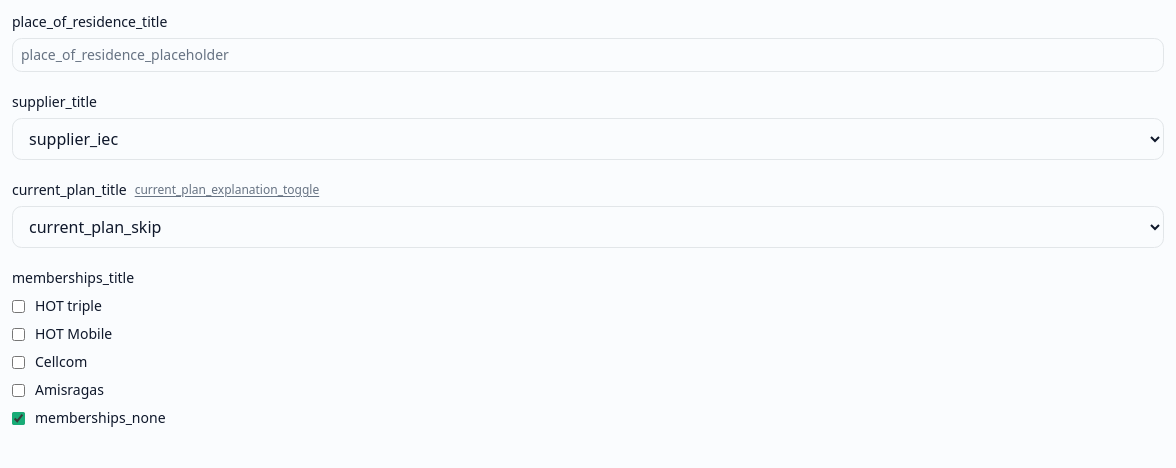
Test case: HomeFields current-plan picker › reveals the explanation text when the explanation toggle is activated
What coordinates should you click on to do the following:
click the button "current_plan_explanation_toggle"
I would click on:
 (227, 190)
Its box is [135,182,319,198].
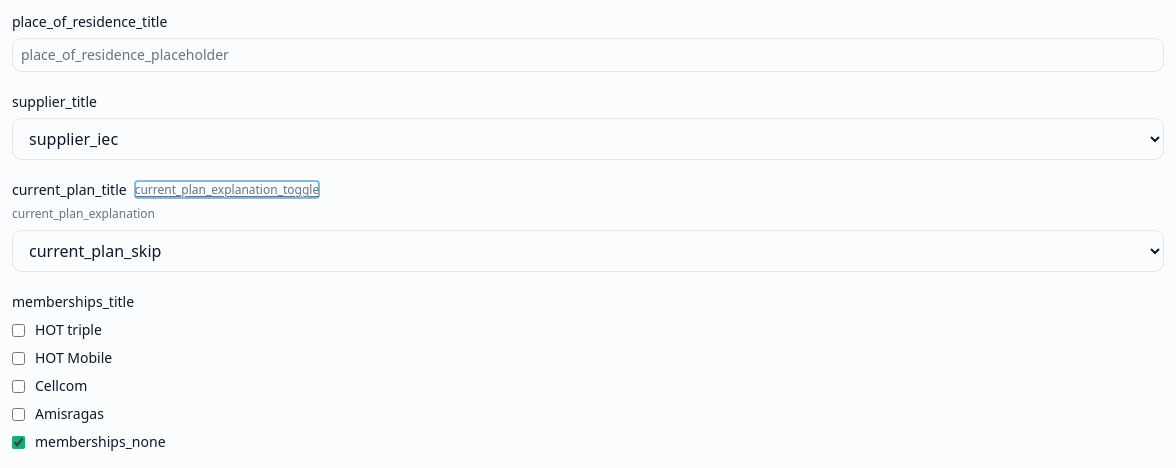
Expected: the text "current_plan_explanation" is shown, [12,205,155,222]
